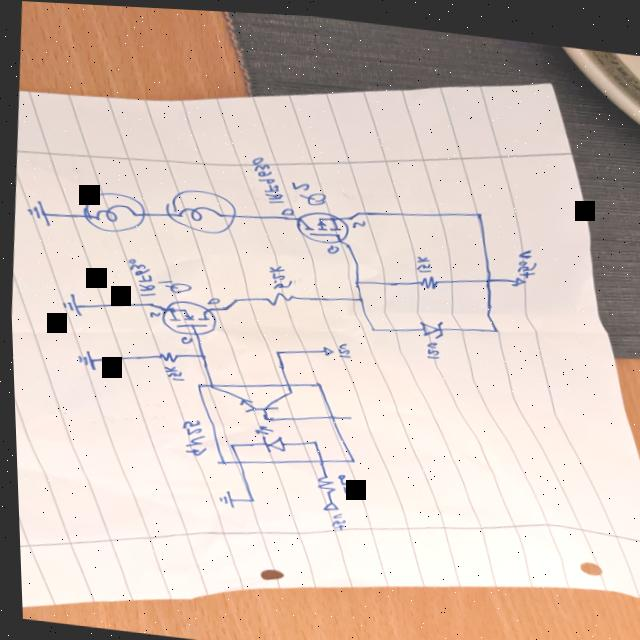diode: (415, 314, 444, 335)
ground: (24, 197, 52, 226), (57, 291, 82, 316), (73, 348, 95, 369), (214, 486, 234, 505)
junction: (487, 320, 499, 329), (228, 292, 240, 301), (472, 205, 484, 212), (270, 345, 280, 353), (195, 350, 205, 357), (354, 292, 364, 299), (367, 322, 377, 329), (352, 274, 362, 281), (482, 271, 492, 278), (220, 302, 228, 309), (146, 299, 154, 306), (245, 494, 253, 500), (354, 206, 362, 212), (343, 238, 351, 244), (346, 211, 353, 216)
resistor: (262, 287, 293, 305), (311, 471, 334, 490), (415, 269, 439, 286), (154, 347, 177, 362)
source: (318, 496, 337, 508), (509, 269, 526, 282), (318, 341, 333, 353)
terminal: (339, 408, 355, 418)
text: (245, 150, 289, 203), (123, 256, 159, 297), (175, 414, 208, 455), (287, 175, 329, 203), (264, 260, 293, 287), (514, 242, 537, 274), (155, 276, 192, 292), (333, 469, 356, 491), (159, 361, 184, 380), (325, 507, 345, 527), (412, 250, 433, 269), (422, 335, 440, 356), (334, 337, 350, 355), (349, 214, 367, 226), (323, 240, 339, 251), (204, 294, 221, 304), (278, 204, 295, 213), (177, 333, 192, 342), (145, 308, 160, 317)
transistor: (157, 296, 218, 338), (292, 204, 352, 244)
